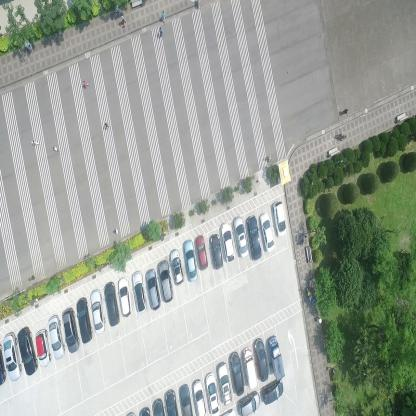car: (18, 326, 39, 377), (2, 332, 22, 380), (46, 314, 66, 361), (74, 296, 93, 345), (61, 307, 80, 354), (258, 209, 276, 254), (253, 335, 270, 382), (103, 280, 120, 326), (182, 236, 198, 284), (268, 333, 284, 381), (89, 289, 106, 334), (232, 215, 249, 259), (157, 258, 173, 304), (131, 268, 147, 314), (229, 351, 245, 397), (246, 216, 262, 261), (220, 219, 236, 264), (34, 328, 52, 368), (217, 361, 233, 406), (242, 346, 258, 390), (206, 371, 222, 415), (145, 267, 161, 310), (117, 275, 132, 319), (262, 376, 284, 406), (167, 248, 184, 286), (192, 377, 208, 415), (209, 231, 224, 271), (237, 389, 260, 415), (272, 198, 286, 238), (177, 382, 193, 415), (194, 233, 208, 270), (164, 389, 179, 415), (151, 396, 165, 415)
